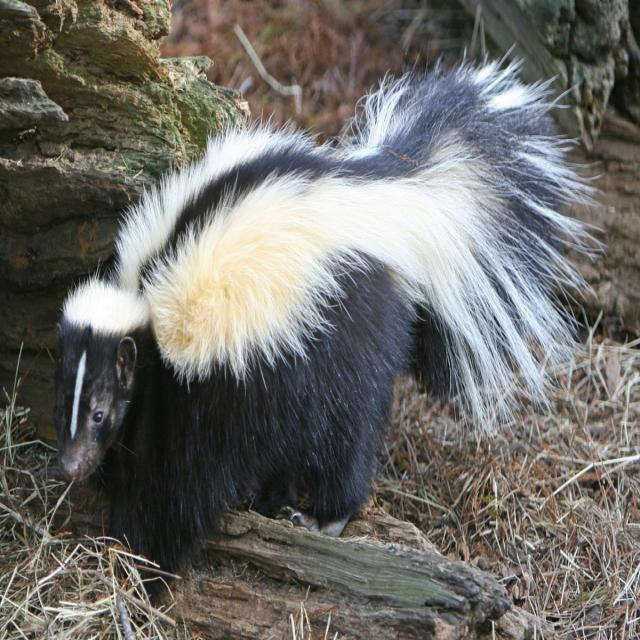Skunk: (44, 58, 590, 566)
